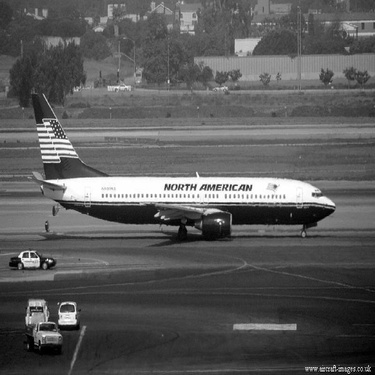airplane: (17, 76, 351, 263)
car: (6, 236, 61, 280)
